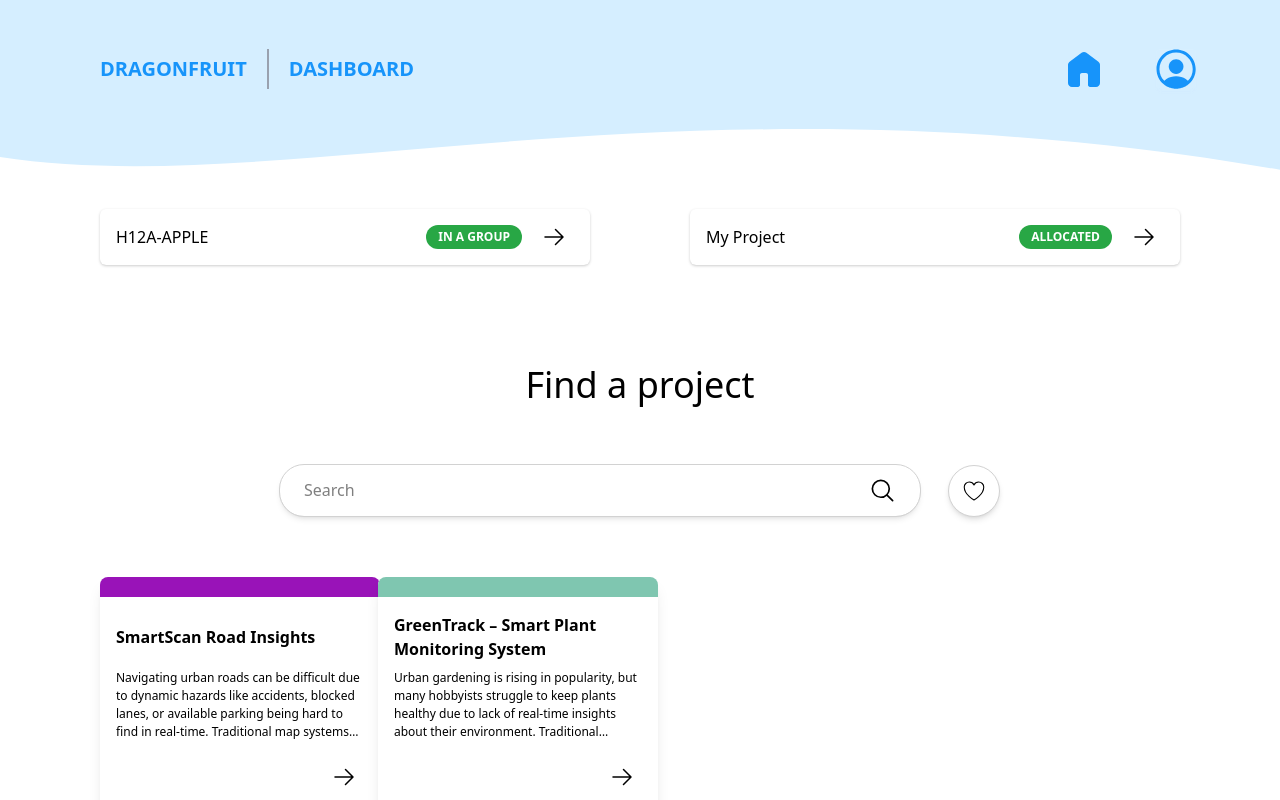
Test case: Student Dashboard Page (fixed) › filters projects via search
Check: the heading "SmartScan Road Insights" is shown, box [116, 626, 315, 648]
Check: the heading "GreenTrack – Smart Plant Monitoring System" is shown, box [394, 614, 596, 660]
// type a search term
Type "GreenTrack" into the field with placeholder "Search" at {"x": 587, "y": 490}, box [304, 478, 869, 502]
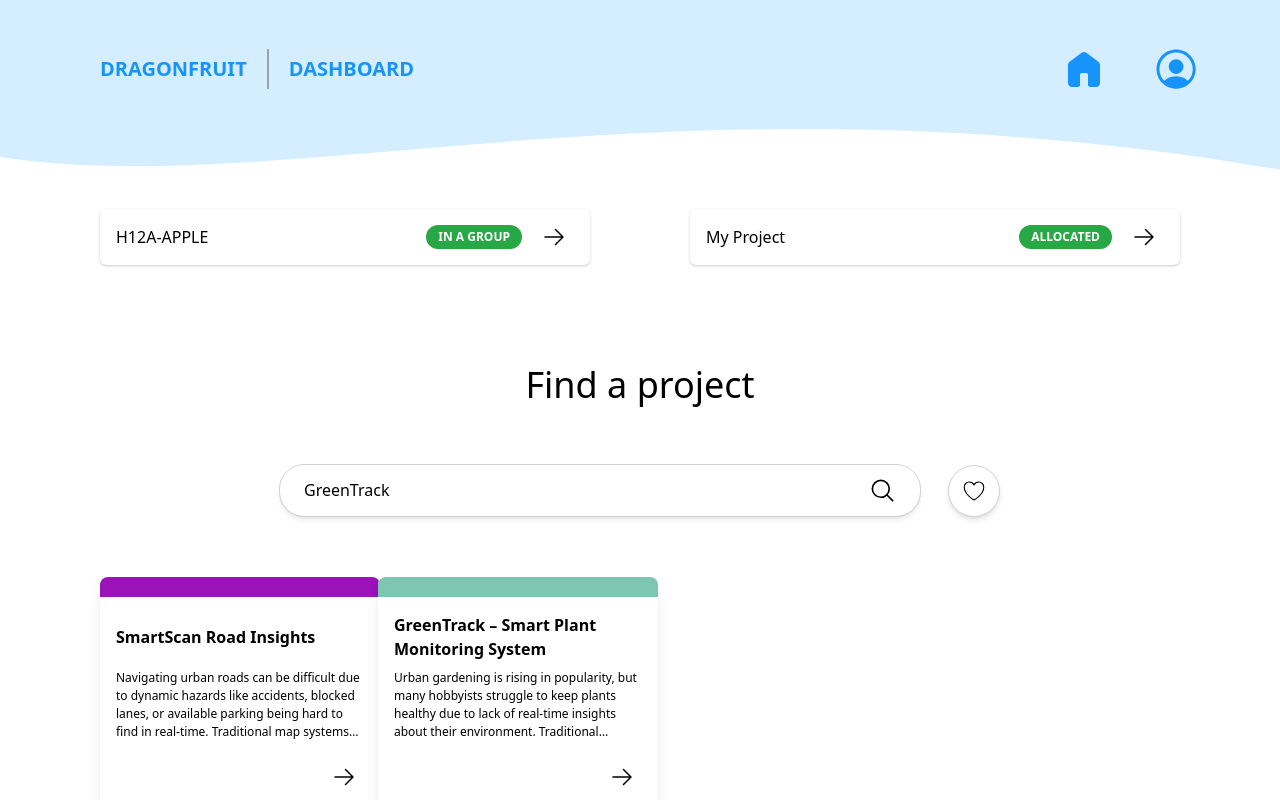
// click the search button
Click the button with id "search-button" at {"x": 883, "y": 491}, box [869, 477, 896, 504]
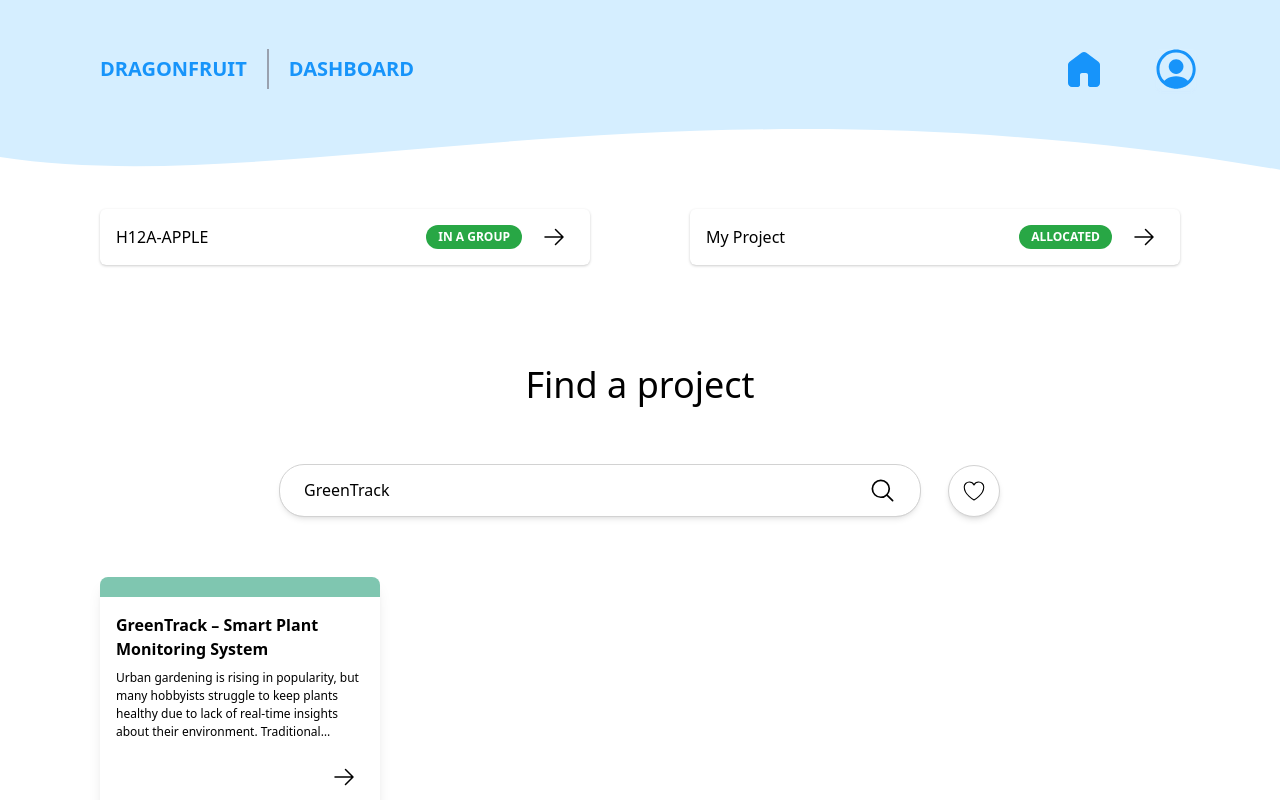
Check: the heading "GreenTrack – Smart Plant Monitoring System" is shown, box [116, 614, 318, 660]
Check: the heading "SmartScan Road Insights" is gone
